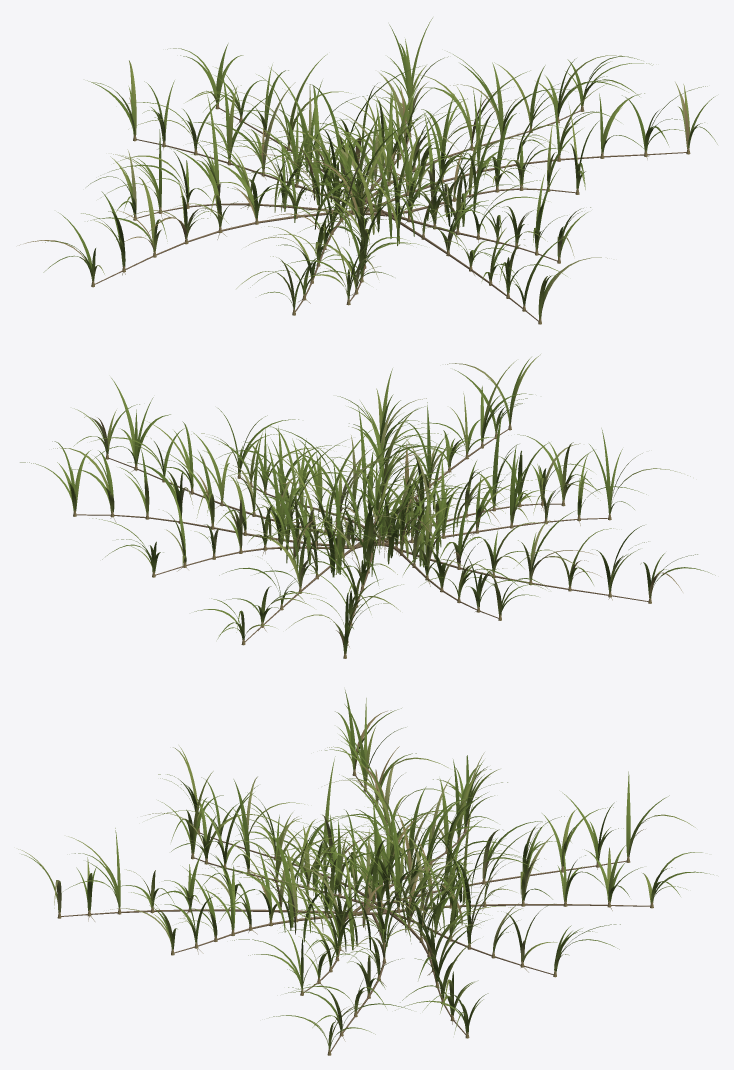
The picture shows the model from 3 angles, top to bottom: view 1: azimuth 30°, elevation 25°; view 2: azimuth 150°, elevation 25°; view 3: azimuth 270°, elevation 25°; orthographic projection. The views are drawn at different scales.
Visible parts, largest first — view 1: Blades • Leaf green, Blades • Leaf forest, Blades • Leaf young, Blades • Leaf shaded, Stolons • Runner ochre, Blades • Leaf olive, Blades • Dry sheath, Nodes • Dry sheath; view 2: Blades • Leaf green, Blades • Leaf forest, Blades • Leaf young, Blades • Leaf shaded, Blades • Leaf olive, Stolons • Runner ochre, Nodes • Dry sheath, Blades • Dry sheath; view 3: Blades • Leaf green, Blades • Leaf forest, Blades • Leaf young, Blades • Leaf shaded, Blades • Leaf olive, Stolons • Runner ochre, Blades • Dry sheath, Nodes • Dry sheath.
Part boxes in pixels (x1,y1,x2,y2): Blades • Leaf green: (81, 18, 715, 318); Blades • Leaf forest: (43, 43, 717, 317); Blades • Leaf young: (92, 55, 704, 318); Blades • Leaf shaded: (45, 24, 680, 302); Stolons • Runner ochre: (94, 107, 686, 321); Blades • Leaf olive: (111, 72, 687, 312); Blades • Dry sheath: (19, 86, 689, 291); Nodes • Dry sheath: (91, 104, 690, 324); Blades • Leaf green: (20, 368, 648, 652); Blades • Leaf forest: (52, 357, 715, 653); Blades • Leaf young: (53, 354, 690, 653); Blades • Leaf shaded: (93, 394, 697, 619); Blades • Leaf olive: (84, 363, 600, 614); Stolons • Runner ochre: (76, 428, 648, 642); Nodes • Dry sheath: (73, 424, 651, 658); Blades • Dry sheath: (97, 417, 682, 653); Blades • Leaf green: (58, 698, 702, 1050); Blades • Leaf forest: (21, 708, 713, 1045); Blades • Leaf young: (18, 727, 695, 1048); Blades • Leaf shaded: (86, 690, 629, 1025); Blades • Leaf olive: (54, 752, 554, 1031); Stolons • Runner ochre: (61, 774, 650, 1051); Blades • Dry sheath: (197, 710, 645, 1049); Nodes • Dry sheath: (57, 769, 653, 1055).
Bounding box in the file's own units: 0.5729 × 0.0801 × 0.5231.
